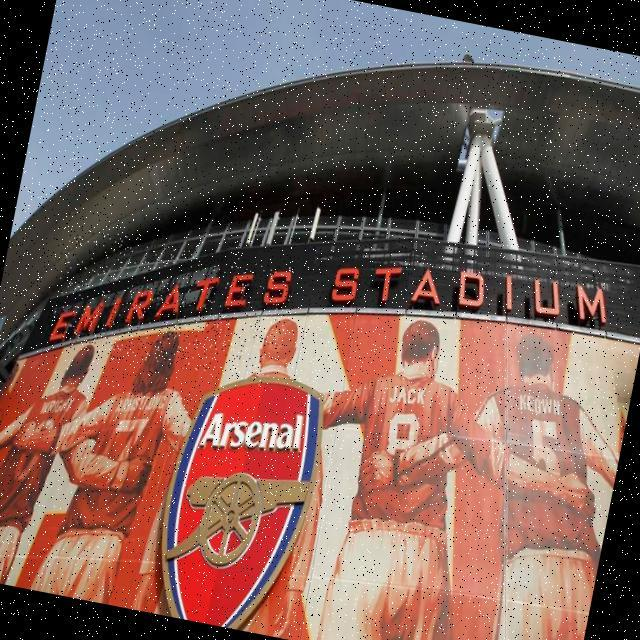Emirates: (48, 226, 296, 389)
